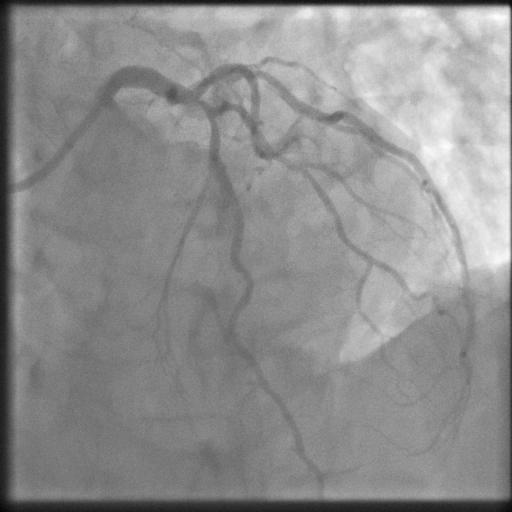Stenosis: (192, 93, 219, 130)
